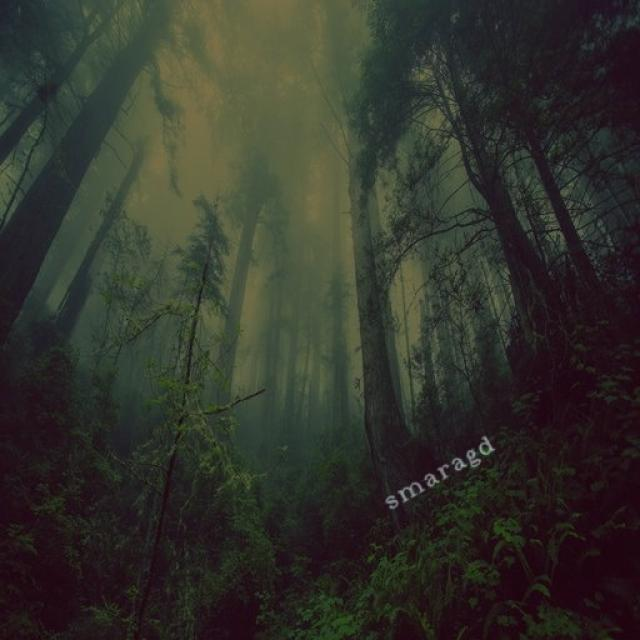watermark: (382, 429, 496, 514)
